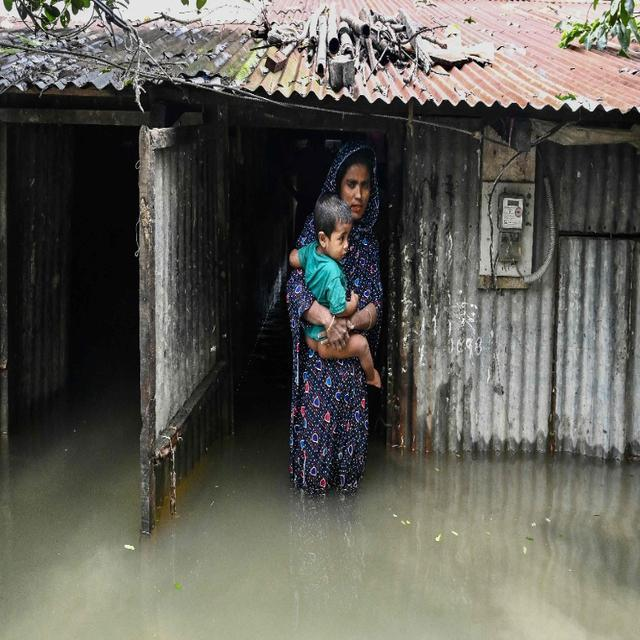Person-RiskLevel2: (280, 137, 387, 501)
